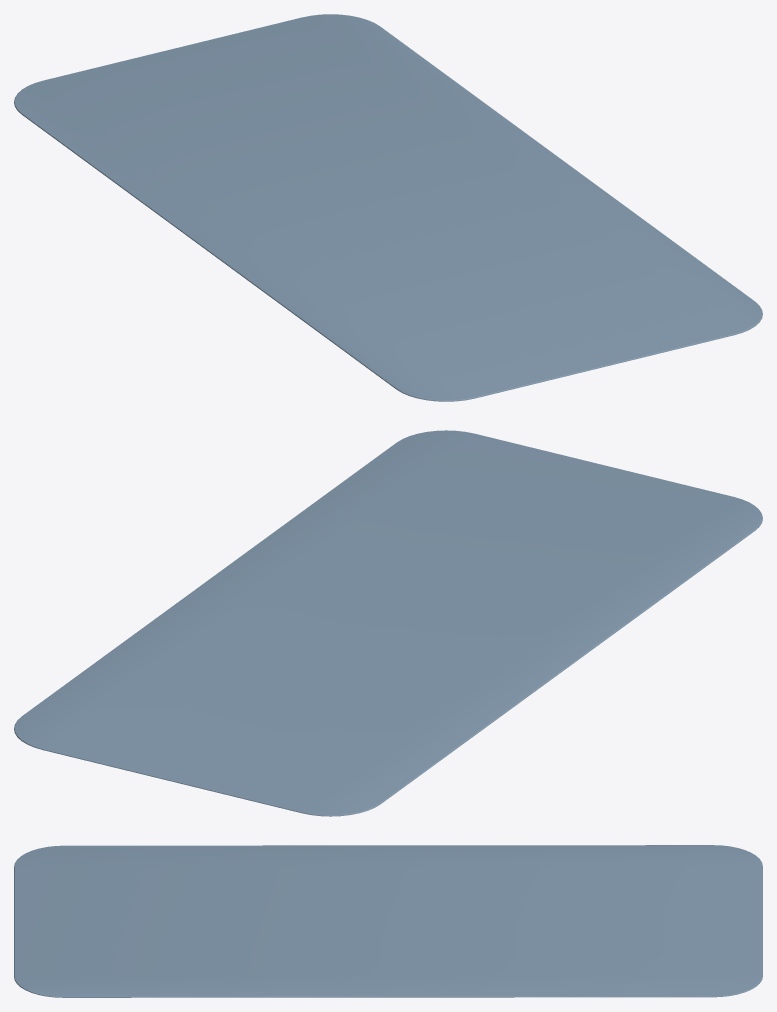
Rendered from back.glb.
The picture shows the model from 3 angles, top to bottom: view 1: azimuth 30°, elevation 25°; view 2: azimuth 150°, elevation 25°; view 3: azimuth 270°, elevation 25°; orthographic projection. The views are drawn at different scales.
Parts seen in each view (by area): view 1: Body; view 2: Body; view 3: Body.
Boxes of the visible parts, x1=… form: Body: x1=14, y1=14, x2=762, y2=401; Body: x1=14, y1=430, x2=762, y2=816; Body: x1=14, y1=845, x2=762, y2=997.
Bounding box in the file's own units: 0.4692 × 0.0022 × 0.9793.
